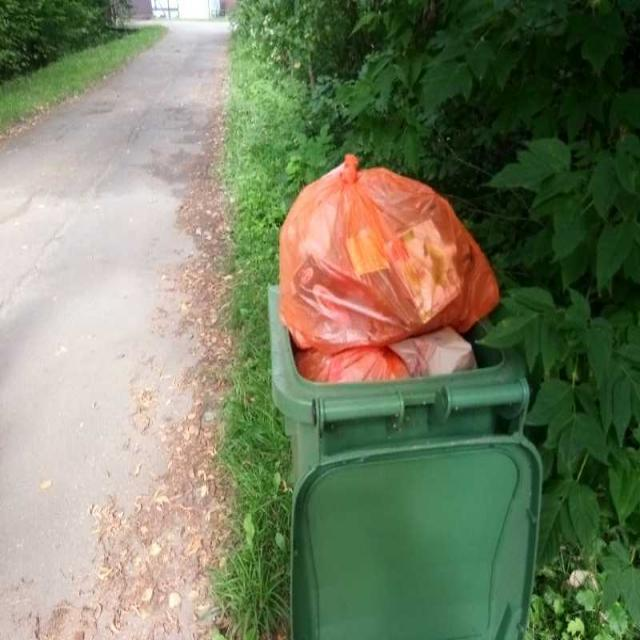Dumpster: (265, 158, 543, 640)
